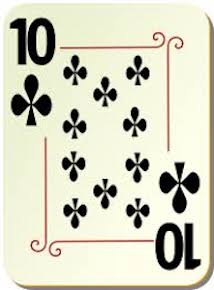TenOfClubs: (5, 1, 208, 286)
